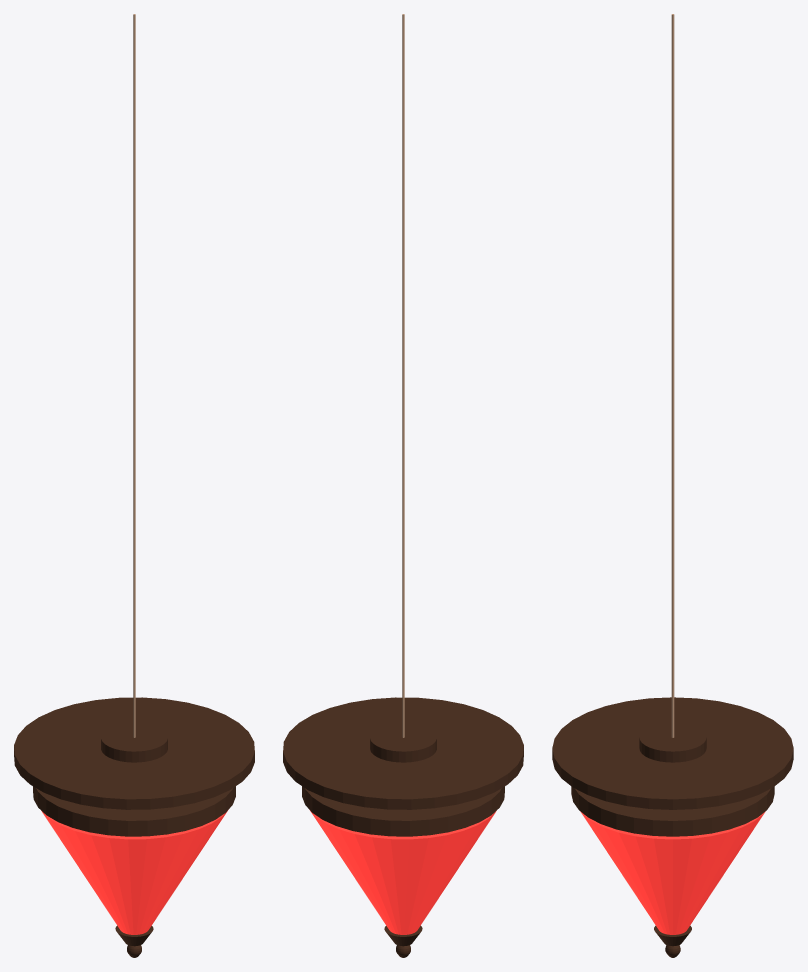
Rendered from Luce 3 Rossa .fbx.
The picture shows the model from 3 angles, left to right: view 1: azimuth 30°, elevation 25°; view 2: azimuth 150°, elevation 25°; view 3: azimuth 270°, elevation 25°; orthographic projection.
Visible parts, largest first — view 1: Cylinder.384; view 2: Cylinder.384; view 3: Cylinder.384.
Boxes of the visible parts, x1,y1,x2,y2 form: Cylinder.384: (14, 14, 254, 957); Cylinder.384: (283, 14, 523, 957); Cylinder.384: (552, 14, 793, 957).
Bounding box in the file's own units: 51.04 × 220 × 51.04.
